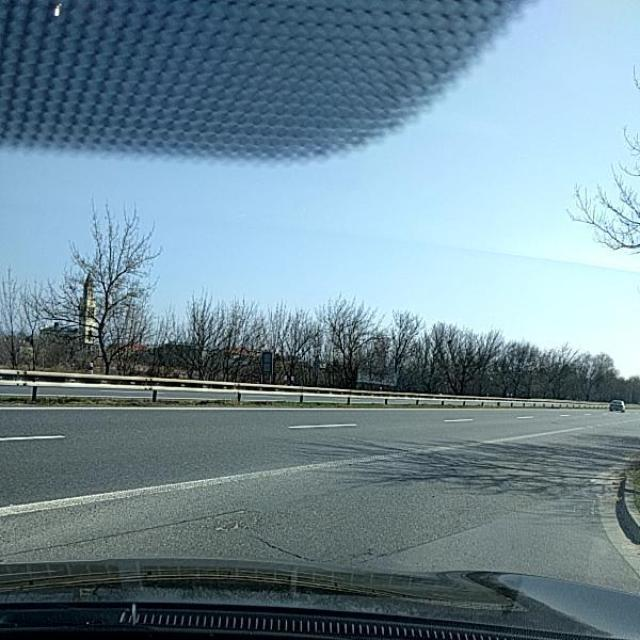Crack: (80, 436, 468, 569)
